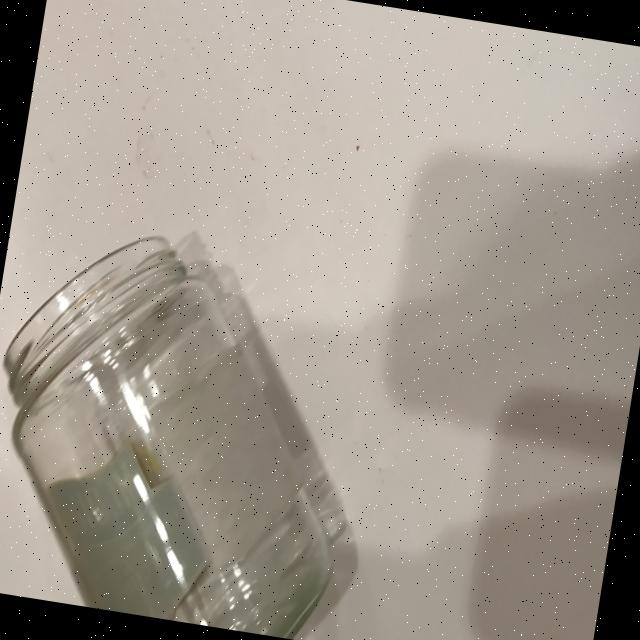glass: (0, 204, 400, 640)
